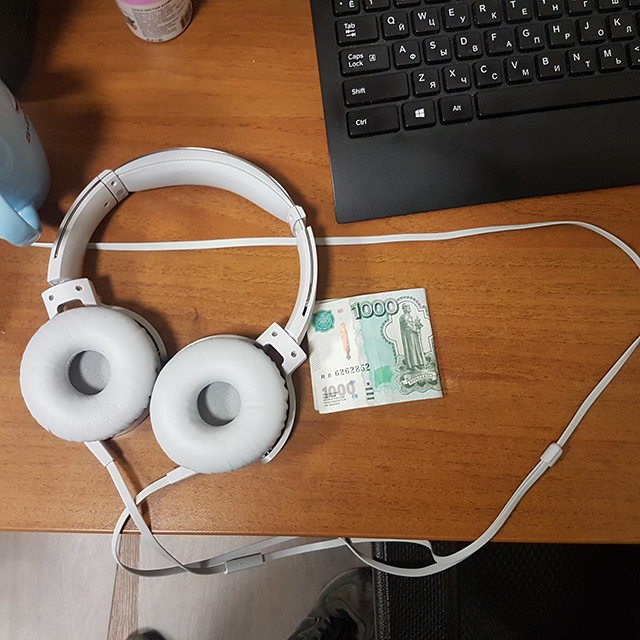banknotes: (306, 287, 442, 413)
